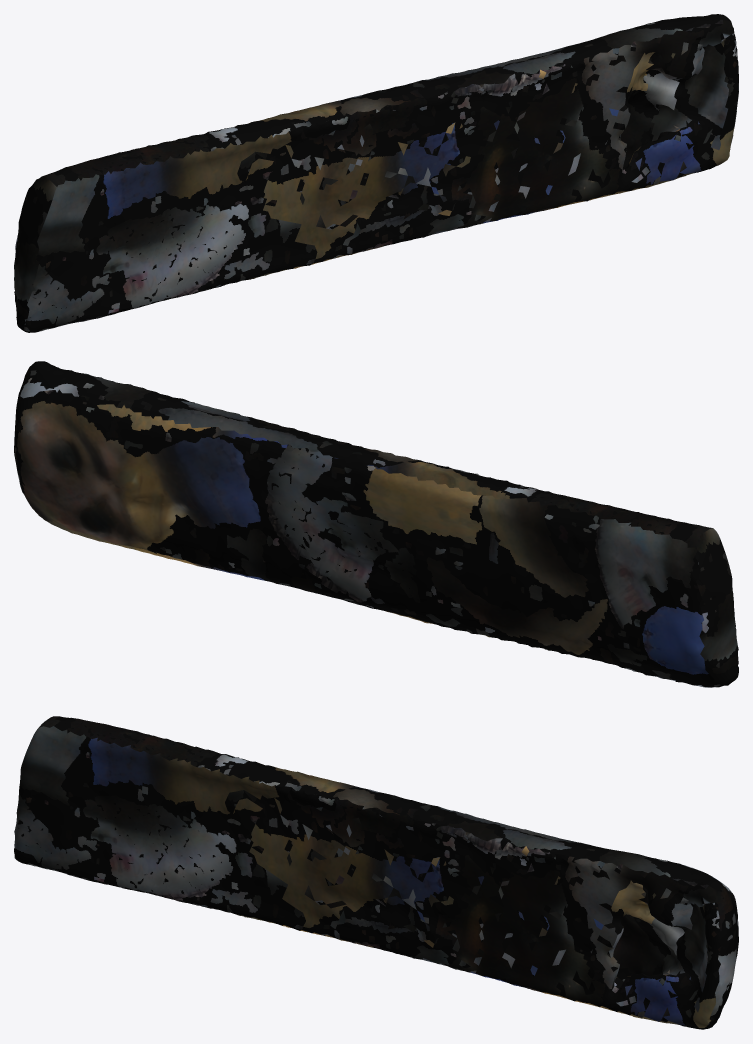
File: refine_init_mesh_remote-silver.obj
The picture shows the model from 3 angles, top to bottom: view 1: azimuth 30°, elevation 25°; view 2: azimuth 150°, elevation 25°; view 3: azimuth 330°, elevation 25°; orthographic projection.
Size of the model in its own units: 0.4252 by 0.0889 by 0.0377.
